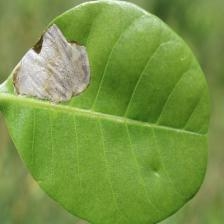leaf miner: (8, 20, 95, 109)
